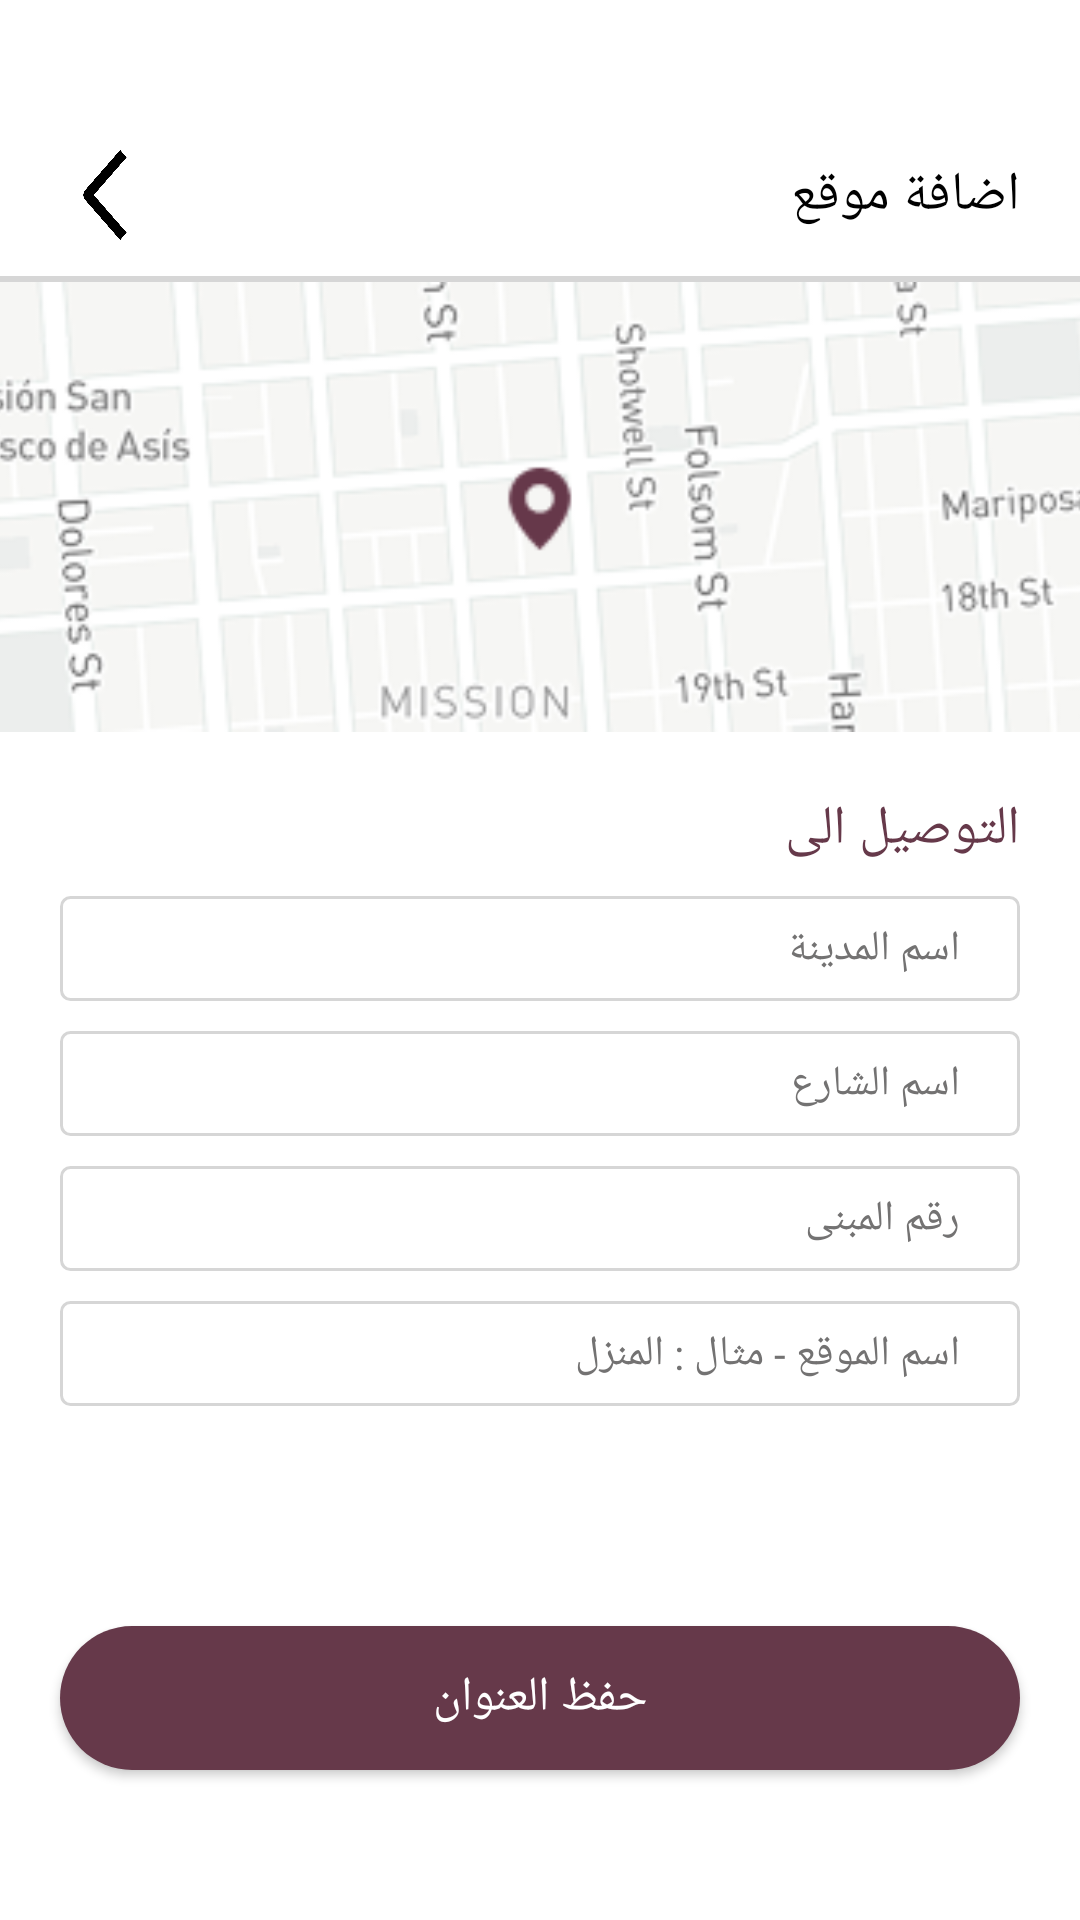

Where icons sit on this 1080px x 1920px app screen, as (x1, y1, x2, y2):
arrow to go back: (83, 150, 127, 240)
